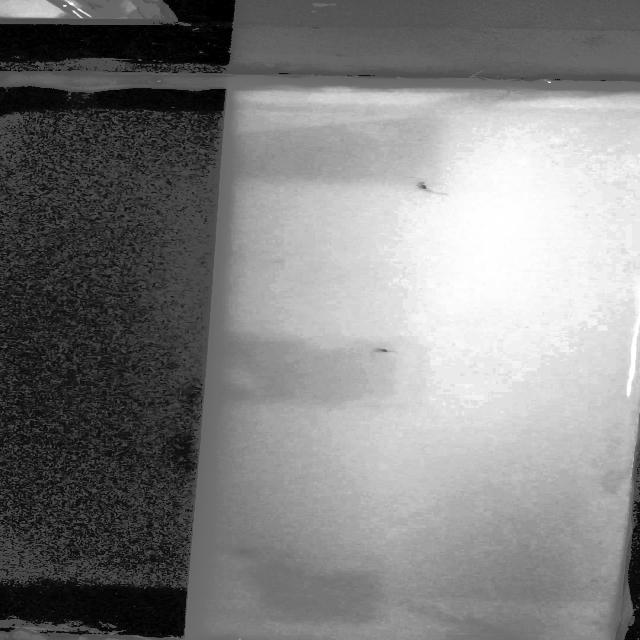shrimp: (403, 176, 446, 197), (370, 344, 398, 357)
